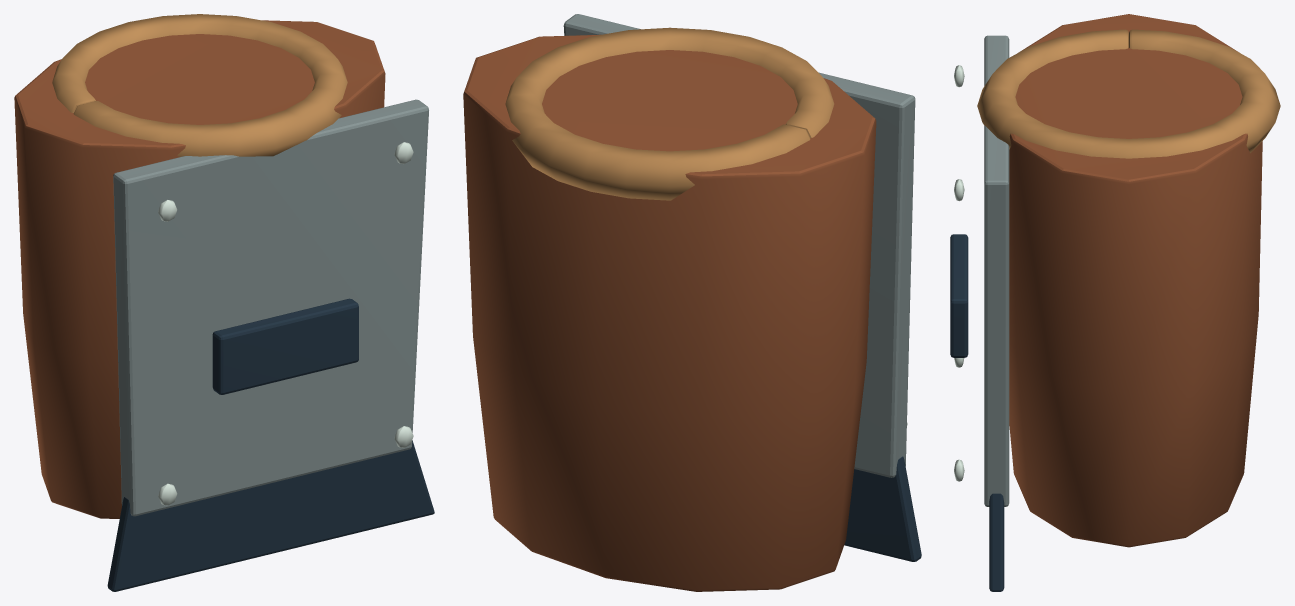
File: item_011.glb
The picture shows the model from 3 angles, left to right: view 1: azimuth 30°, elevation 25°; view 2: azimuth 150°, elevation 25°; view 3: azimuth 270°, elevation 25°; orthographic projection. The views are drawn at different scales.
Visible parts, largest first — view 1: Item_011_tin_apron; view 2: Item_011_tin_apron; view 3: Item_011_tin_apron.
Boxes of the visible parts, bbox=[...] form: Item_011_tin_apron: bbox=[14, 14, 434, 591]; Item_011_tin_apron: bbox=[463, 14, 921, 591]; Item_011_tin_apron: bbox=[950, 14, 1280, 591].
Size of the model in its own units: 0.3997 by 0.4691 by 0.331.
